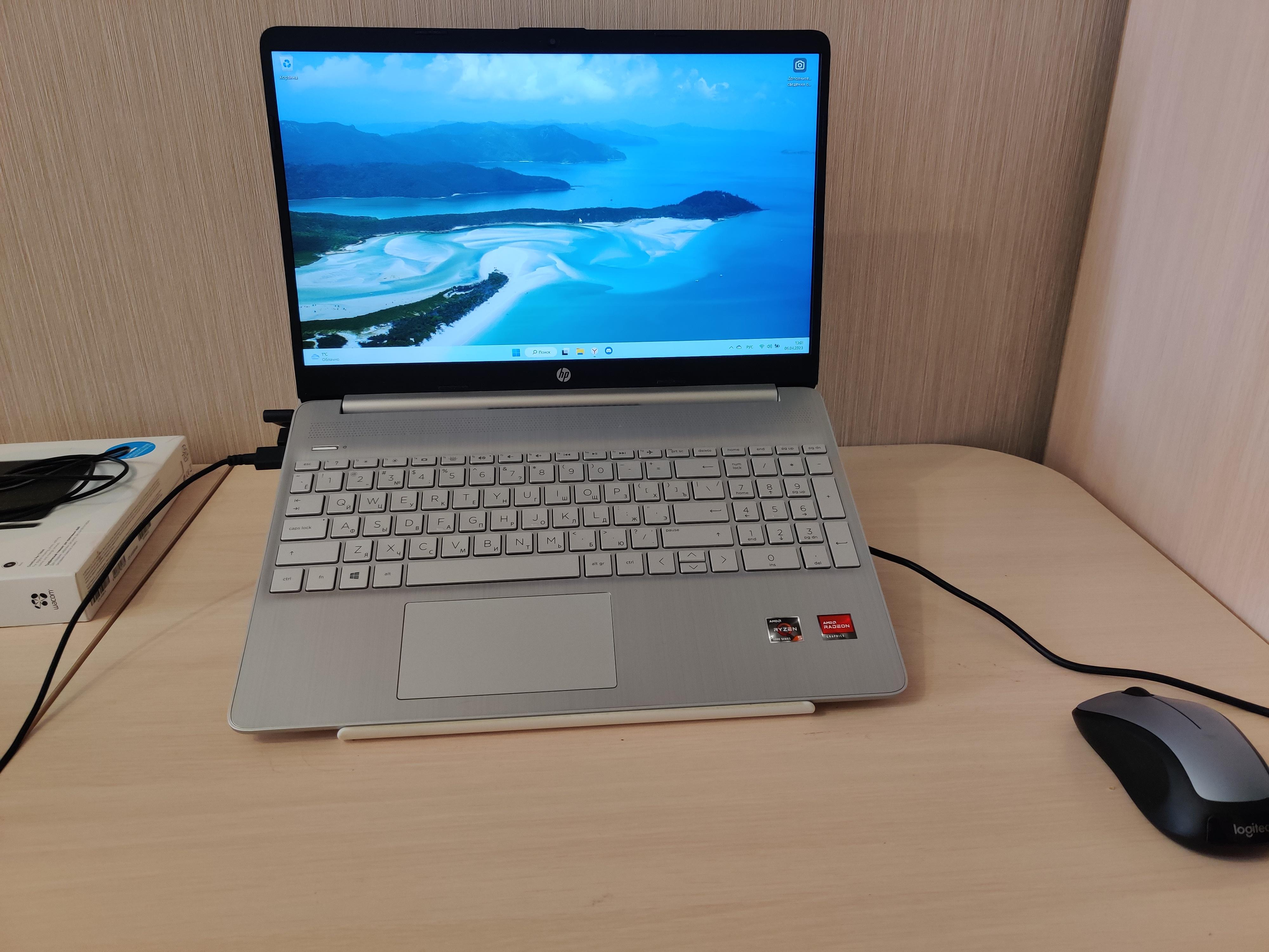monitor: (252, 22, 830, 406)
